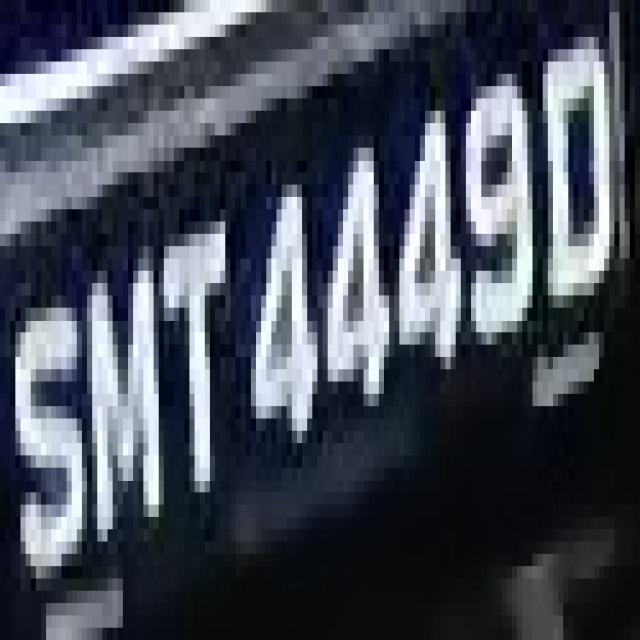4: (297, 111, 404, 455), (230, 135, 322, 492), (369, 111, 471, 394)
9: (456, 24, 542, 382)
D: (528, 25, 614, 332)
M: (77, 234, 169, 578)
S: (10, 271, 87, 591)
T: (144, 209, 230, 517)
